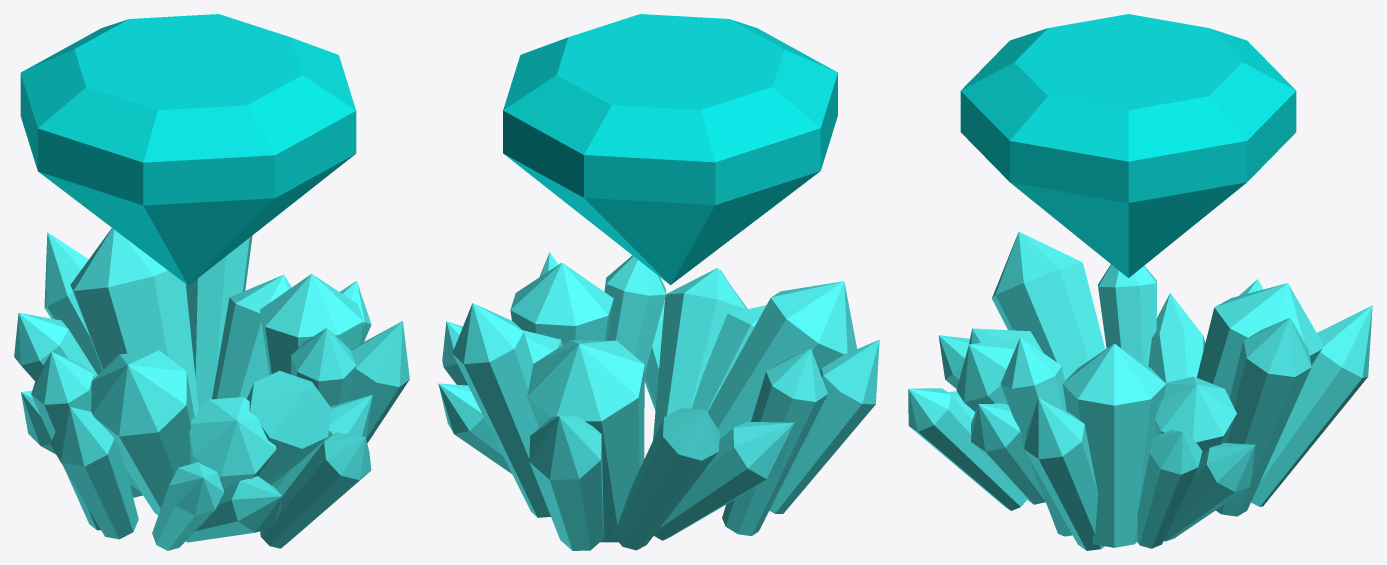
File: Crystal.fbx
The picture shows the model from 3 angles, left to right: view 1: azimuth 30°, elevation 25°; view 2: azimuth 150°, elevation 25°; view 3: azimuth 270°, elevation 25°; orthographic projection. The views are drawn at different scales.
Parts seen in each view (by area): view 1: Cylinder.019, Cylinder.020; view 2: Cylinder.019, Cylinder.020; view 3: Cylinder.019, Cylinder.020.
Part boxes in pixels (x1=…): Cylinder.019: x1=14, y1=228, x2=409, y2=550; Cylinder.020: x1=20, y1=14, x2=356, y2=285; Cylinder.019: x1=438, y1=252, x2=879, y2=550; Cylinder.020: x1=503, y1=14, x2=837, y2=284; Cylinder.019: x1=908, y1=232, x2=1372, y2=550; Cylinder.020: x1=960, y1=14, x2=1296, y2=277.
Size of the model in its own units: 516 by 601 by 583.
